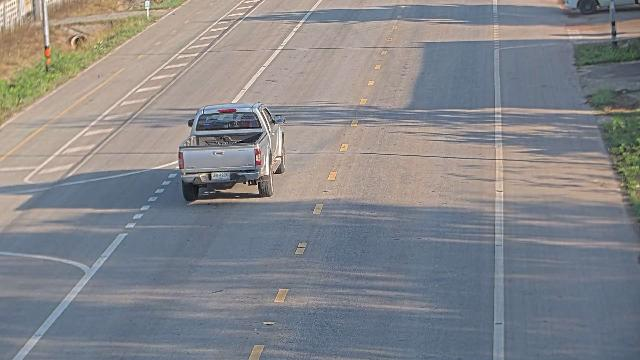pickup-truck: (177, 101, 286, 202)
